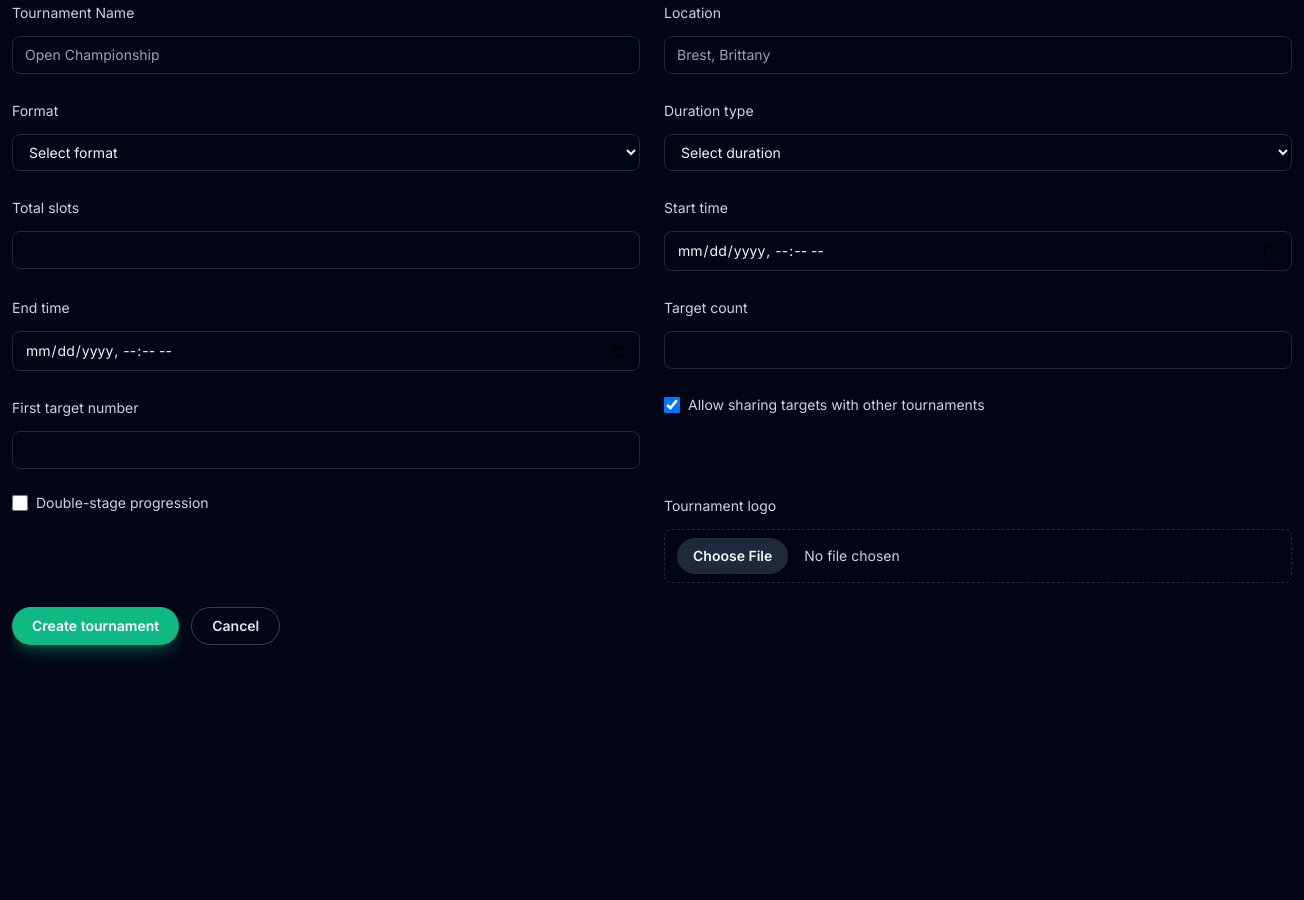
it: TournamentForm validation fields › should validate target count
Note: Test minimum
Type "0" into the number field labelled "Target count" at (978, 350), box [664,331,1292,369]
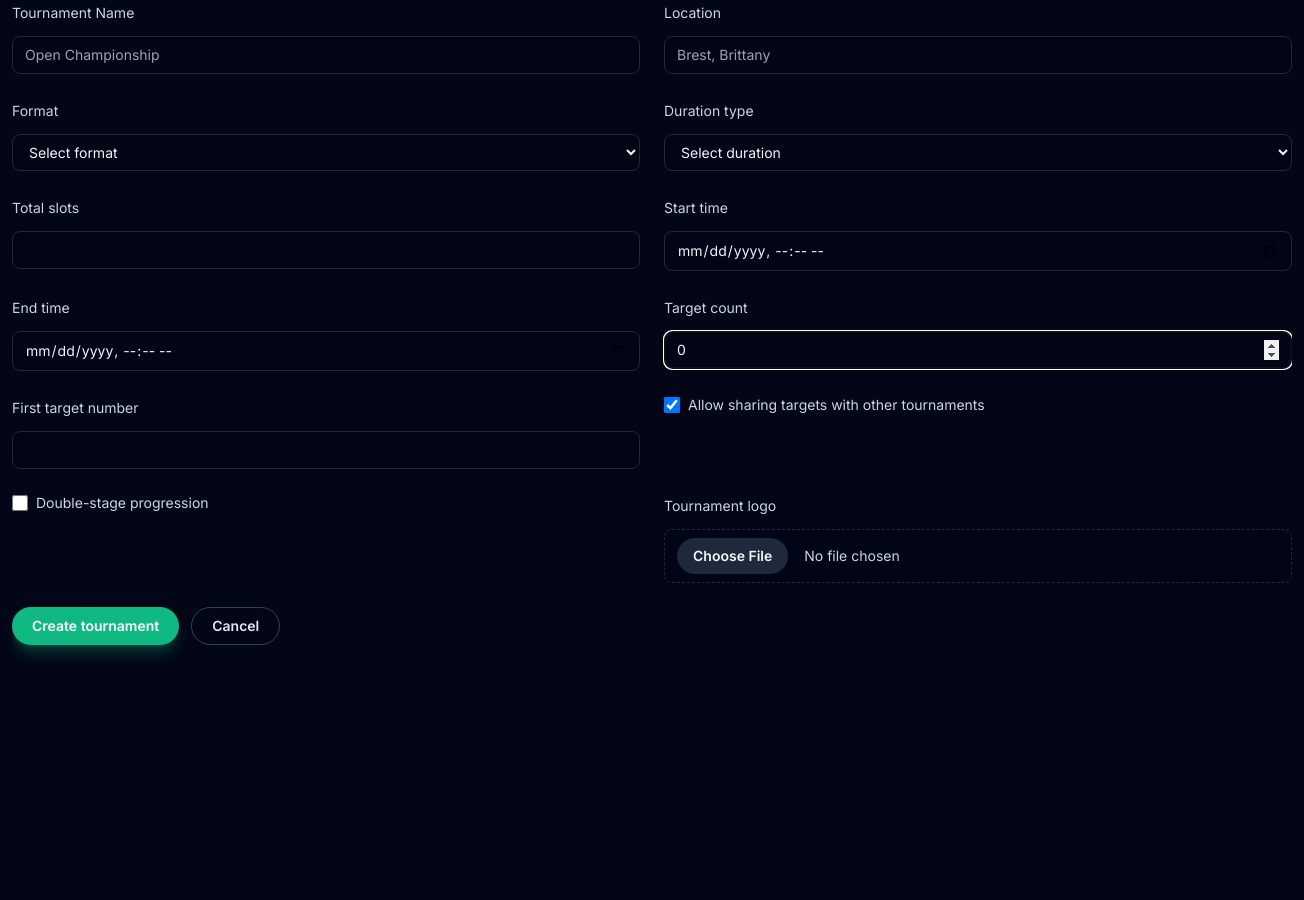
Press Tab
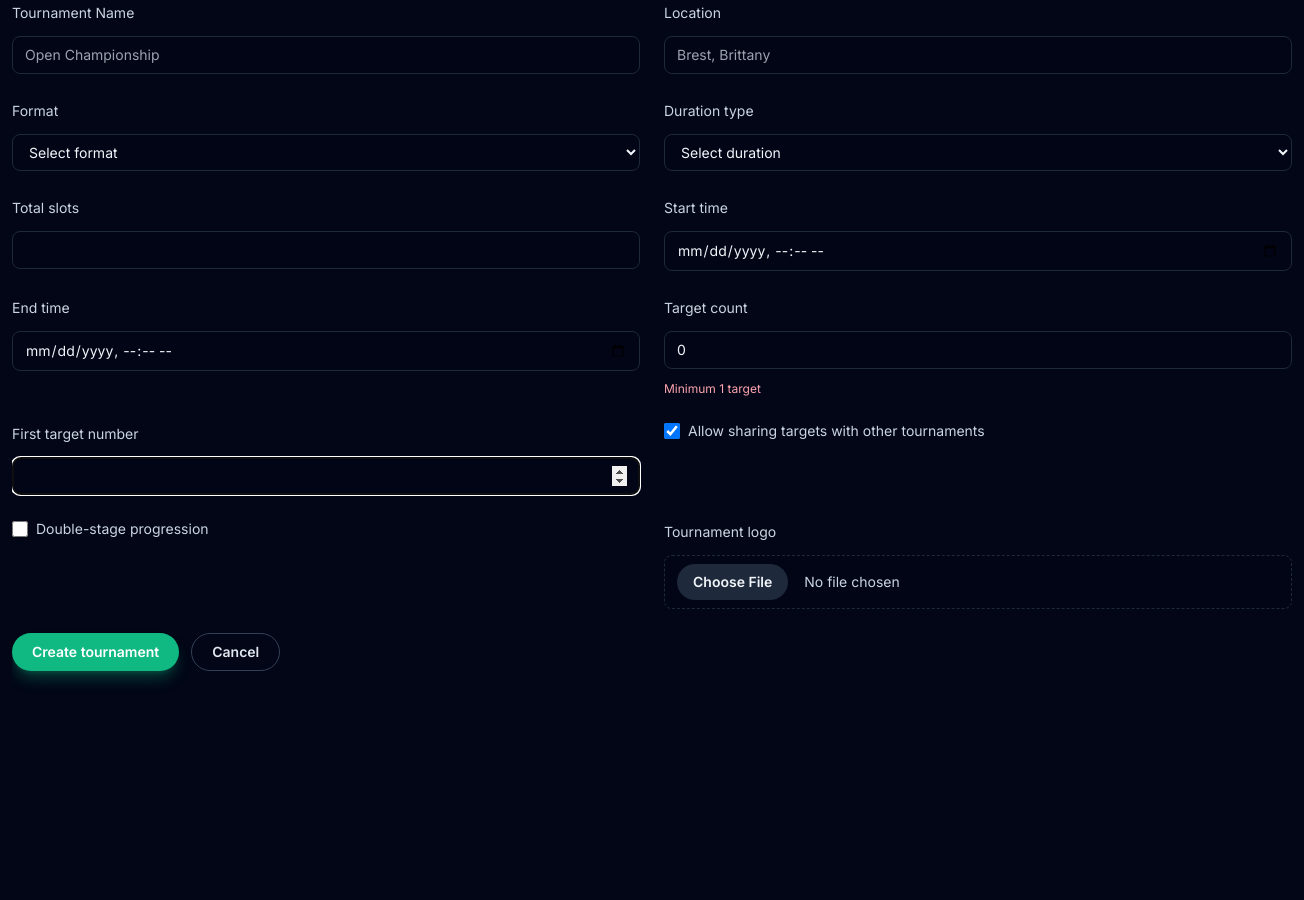
Expected: the text "Minimum 1 target" is shown, [664,381,761,396]
Note: Test maximum
Replace the text in the number field labelled "Target count" with "21" at (978, 350), box [664,331,1292,369]
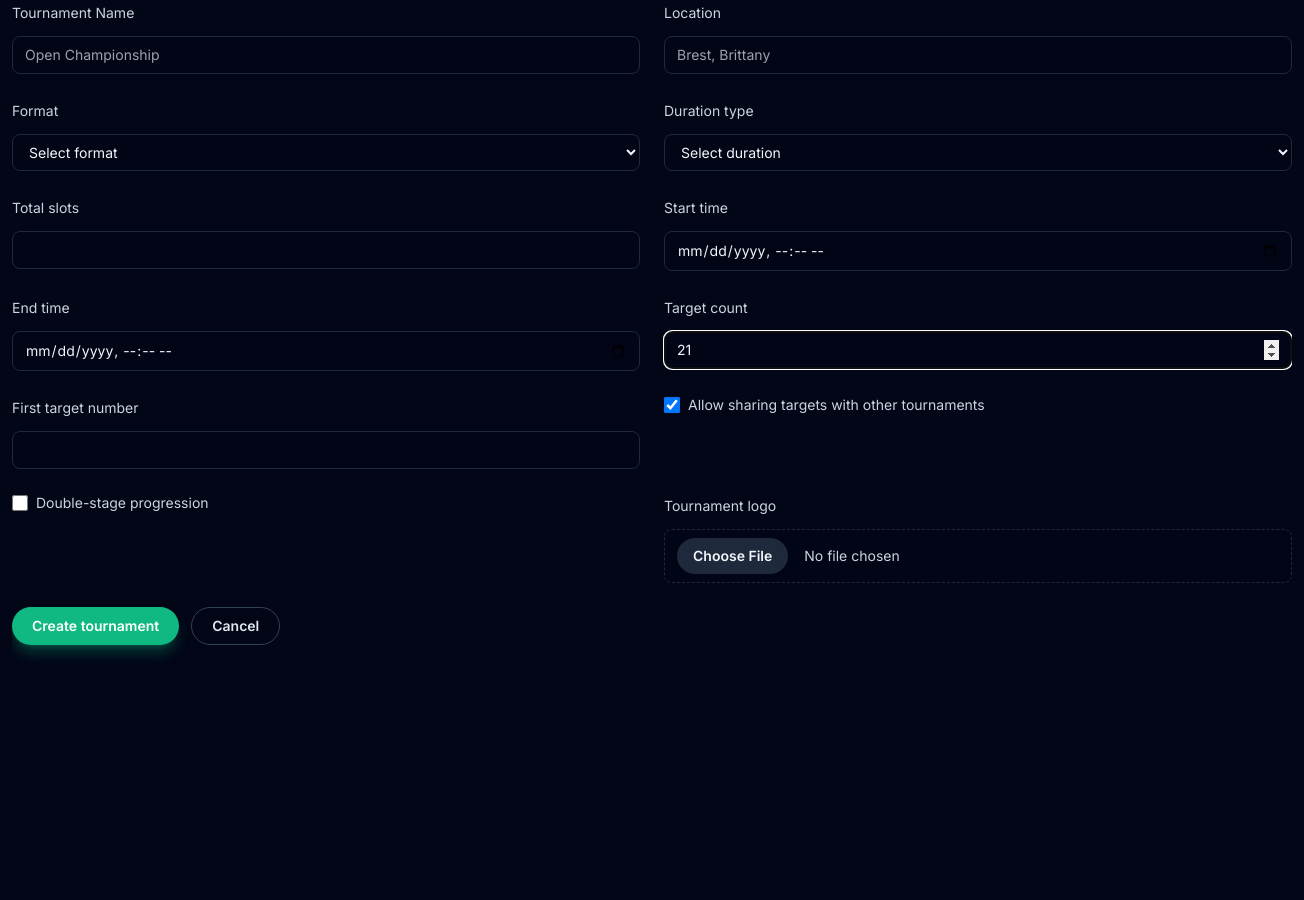
Press Tab
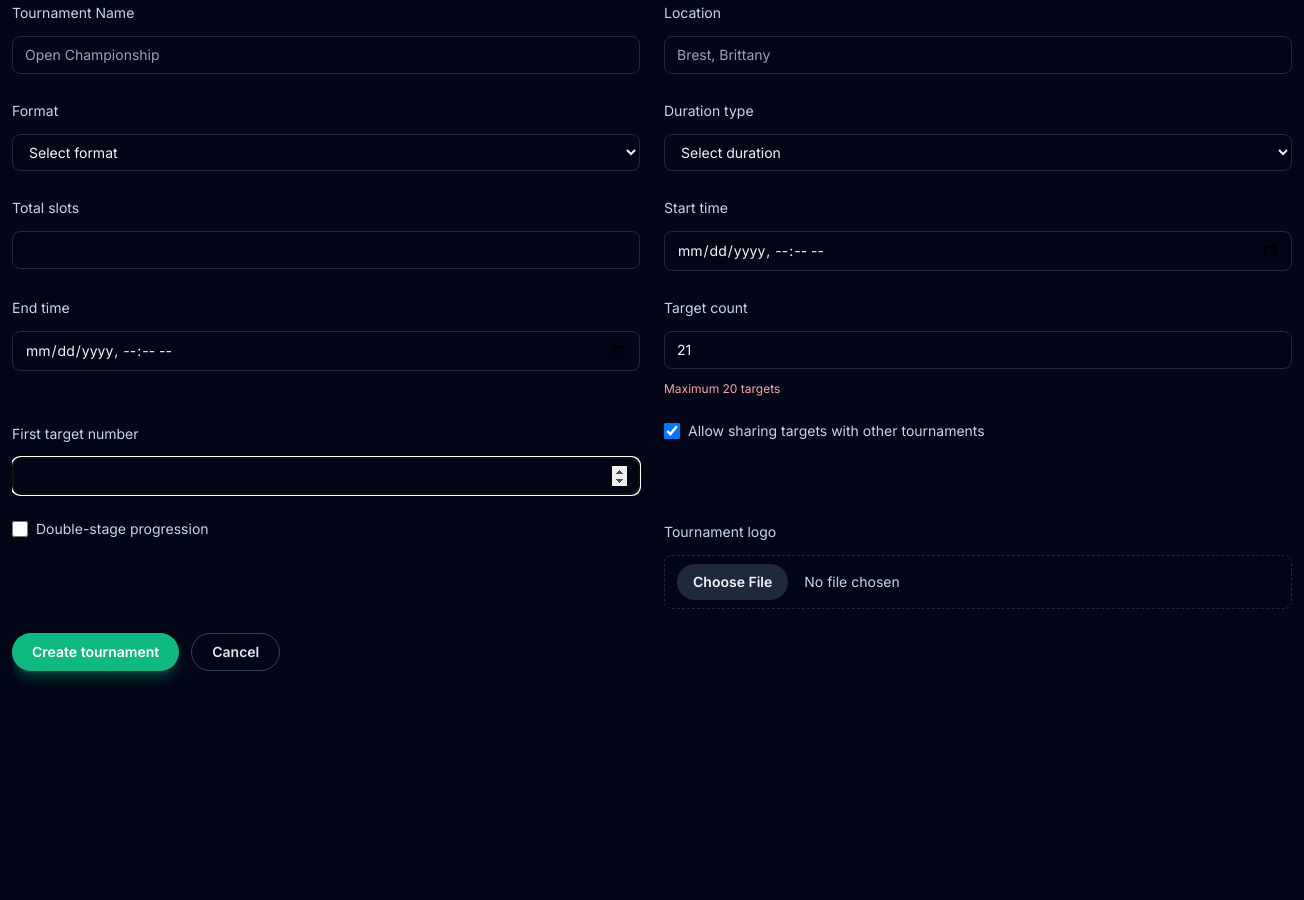
Expected: the text "Maximum 20 targets" is shown, [664,381,780,396]
